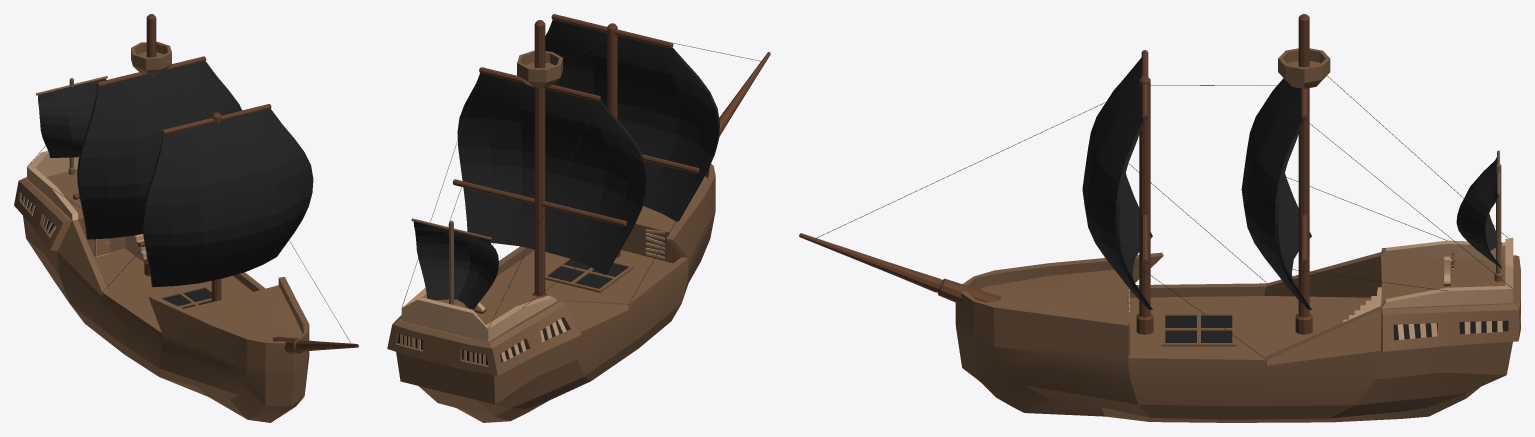
Rendered from ship_003.glb.
3 views of the same model, side by side, from view 1: azimuth 30°, elevation 25°; view 2: azimuth 150°, elevation 25°; view 3: azimuth 270°, elevation 25° (orthographic). The views are drawn at different scales.
Parts seen in each view (by area): view 1: ship.003; view 2: ship.003; view 3: ship.003.
Boxes of the visible parts, left/top/right/bottom form: ship.003: left=14, top=14, right=358, bottom=422; ship.003: left=387, top=14, right=770, bottom=422; ship.003: left=799, top=14, right=1520, bottom=422.
Size of the model in its own units: 9.52 by 17.4 by 28.73.
1 material, 1 textured.
